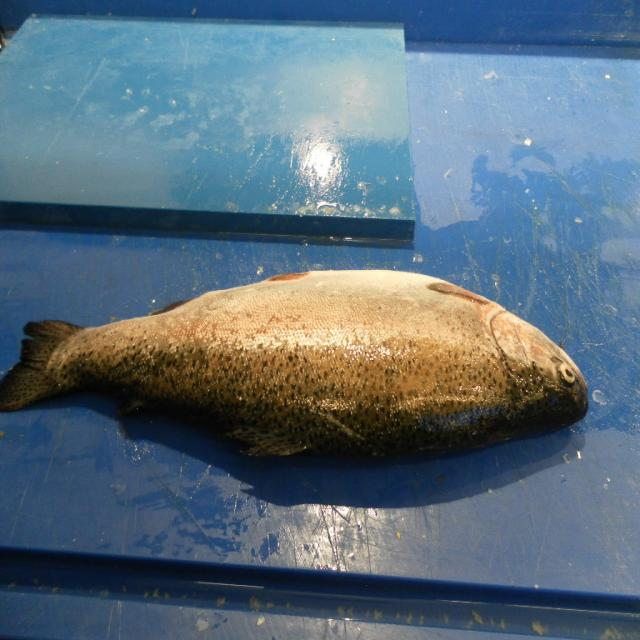Trout-alabalik-: (0, 270, 590, 461)
